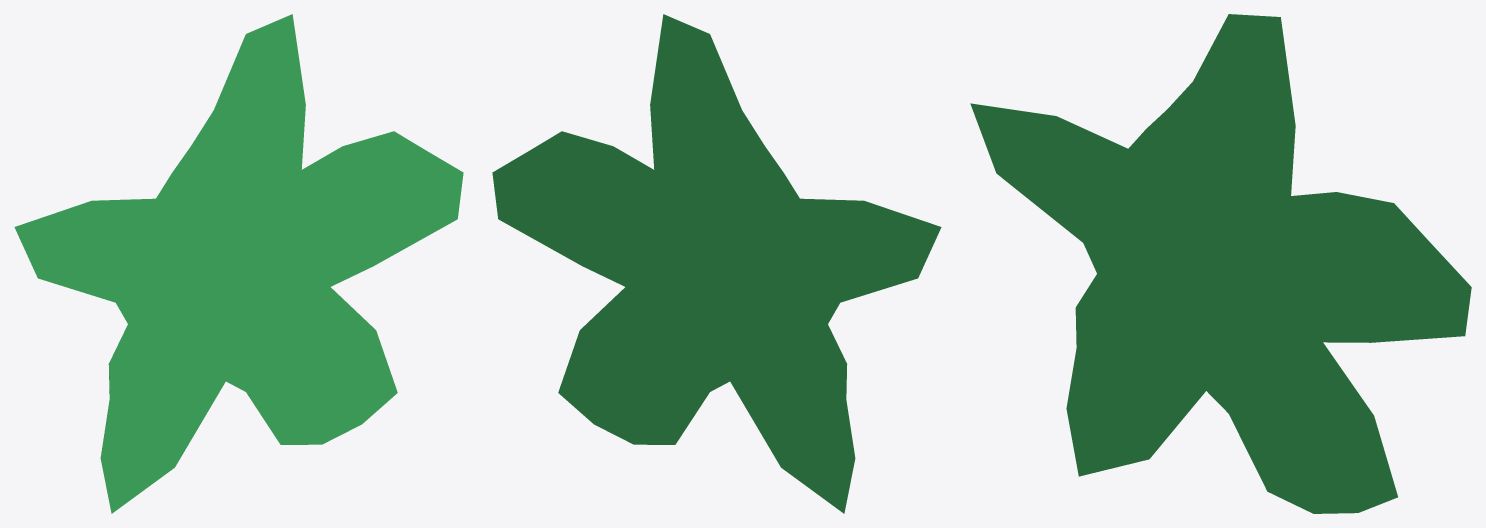
The model's file is splat_green.glb.
3 views of the same model, side by side, from view 1: azimuth 30°, elevation 25°; view 2: azimuth 150°, elevation 25°; view 3: azimuth 330°, elevation 25° (orthographic). The views are drawn at different scales.
Parts seen in each view (by area): view 1: SM_PaintSplash; view 2: SM_PaintSplash; view 3: SM_PaintSplash.
Part boxes in pixels (bbox=[...]): SM_PaintSplash: bbox=[14, 14, 463, 513]; SM_PaintSplash: bbox=[492, 14, 941, 513]; SM_PaintSplash: bbox=[970, 14, 1471, 513].
Size of the model in its own units: 1.71 by 1.66 by 0.0005.
